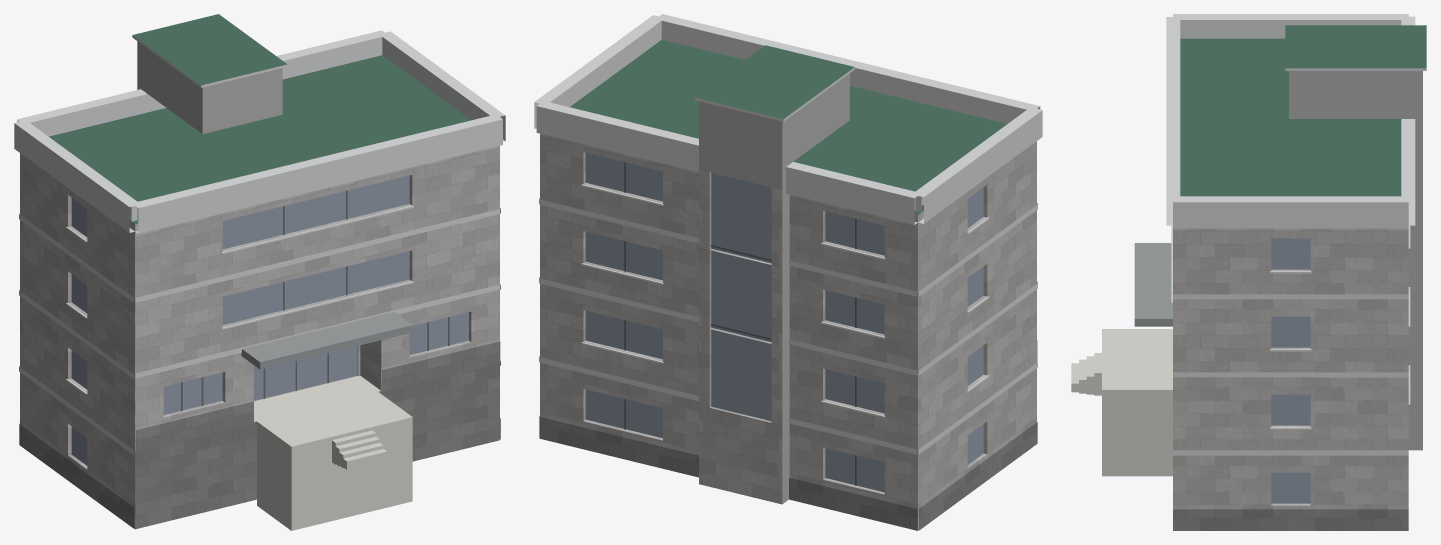
3 renders of one model, left to right at view 1: azimuth 30°, elevation 25°; view 2: azimuth 150°, elevation 25°; view 3: azimuth 270°, elevation 25°, orthographic. The views are drawn at different scales.
Parts seen in each view (by area): view 1: b331__wall, b331__trim, b331__roof, b331__base, b331__entranceStair, b331__glass, b331__wall2, b331__canopy, b331__frame; view 2: b331__wall, b331__trim, b331__glass, b331__roof, b331__wall2, b331__base, b331__frame; view 3: b331__wall, b331__roof, b331__trim, b331__entranceStair, b331__wall2, b331__base, b331__glass, b331__canopy.
Part boxes in pixels (bbox=[...]): b331__wall: bbox=[20, 146, 499, 528]; b331__trim: bbox=[14, 30, 505, 455]; b331__roof: bbox=[49, 14, 499, 529]; b331__base: bbox=[19, 341, 500, 528]; b331__entranceStair: bbox=[254, 375, 412, 530]; b331__glass: bbox=[71, 175, 468, 465]; b331__wall2: bbox=[137, 41, 282, 134]; b331__canopy: bbox=[241, 312, 412, 369]; b331__frame: bbox=[181, 190, 449, 411]; b331__wall: bbox=[540, 133, 1036, 530]; b331__trim: bbox=[534, 14, 1042, 454]; b331__glass: bbox=[585, 153, 983, 492]; b331__roof: bbox=[570, 40, 1006, 530]; b331__wall2: bbox=[699, 73, 849, 503]; b331__base: bbox=[539, 340, 1037, 530]; b331__frame: bbox=[624, 162, 856, 485]; b331__wall: bbox=[1173, 228, 1408, 509]; b331__roof: bbox=[1180, 25, 1426, 196]; b331__trim: bbox=[1166, 14, 1426, 455]; b331__entranceStair: bbox=[1071, 329, 1172, 476]; b331__wall2: bbox=[1289, 71, 1422, 450]; b331__base: bbox=[1173, 509, 1408, 530]; b331__glass: bbox=[1271, 238, 1310, 503]; b331__canopy: bbox=[1134, 243, 1172, 326].
Size of the model in its own units: 18.61 by 17.97 by 14.84.
10 materials, 2 textured.
